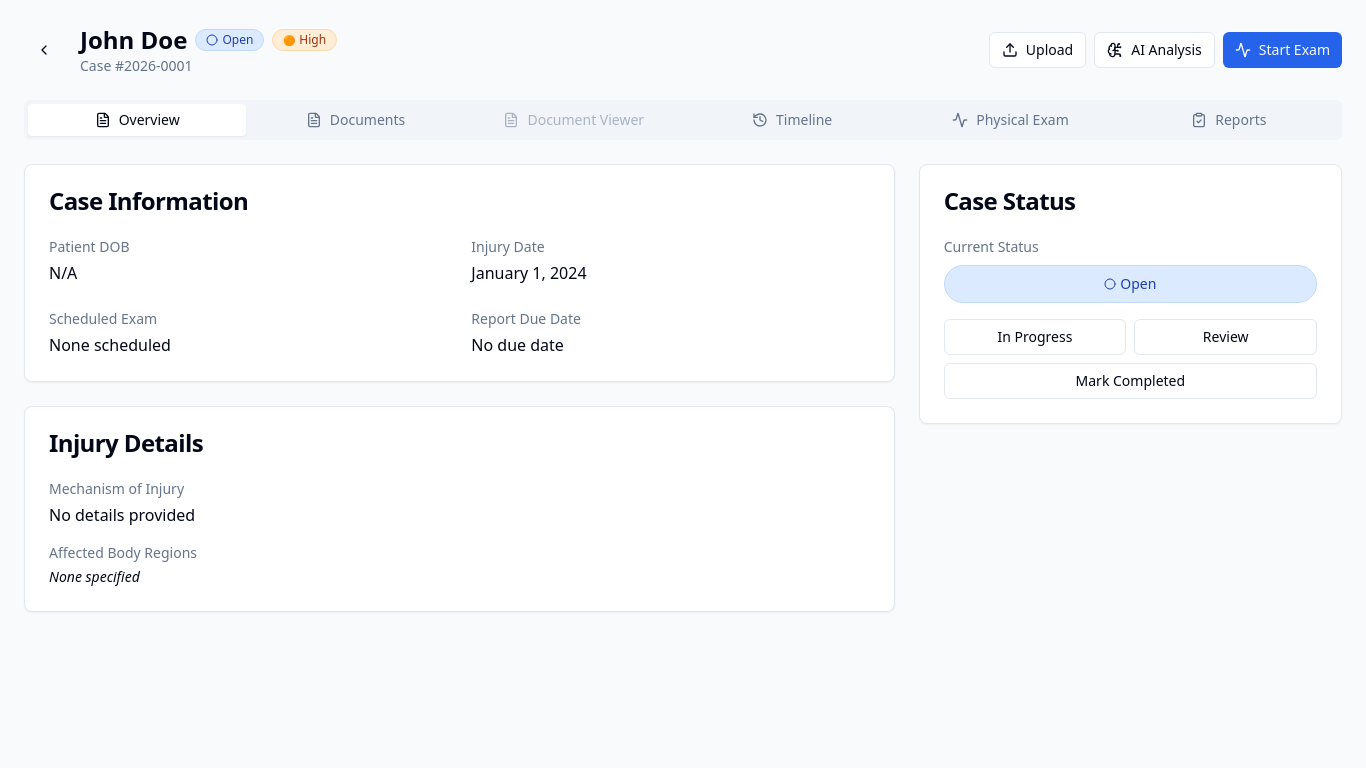
Test: MediCase Workflow Integration › navigates through case detail tabs
Expected: the heading "John Doe" is shown, [80,24,187,56]
Note: Tab Navigation: Physical Exam
Click the tab "Physical Exam". click: [1010, 120]
box: [901,104,1120,136]
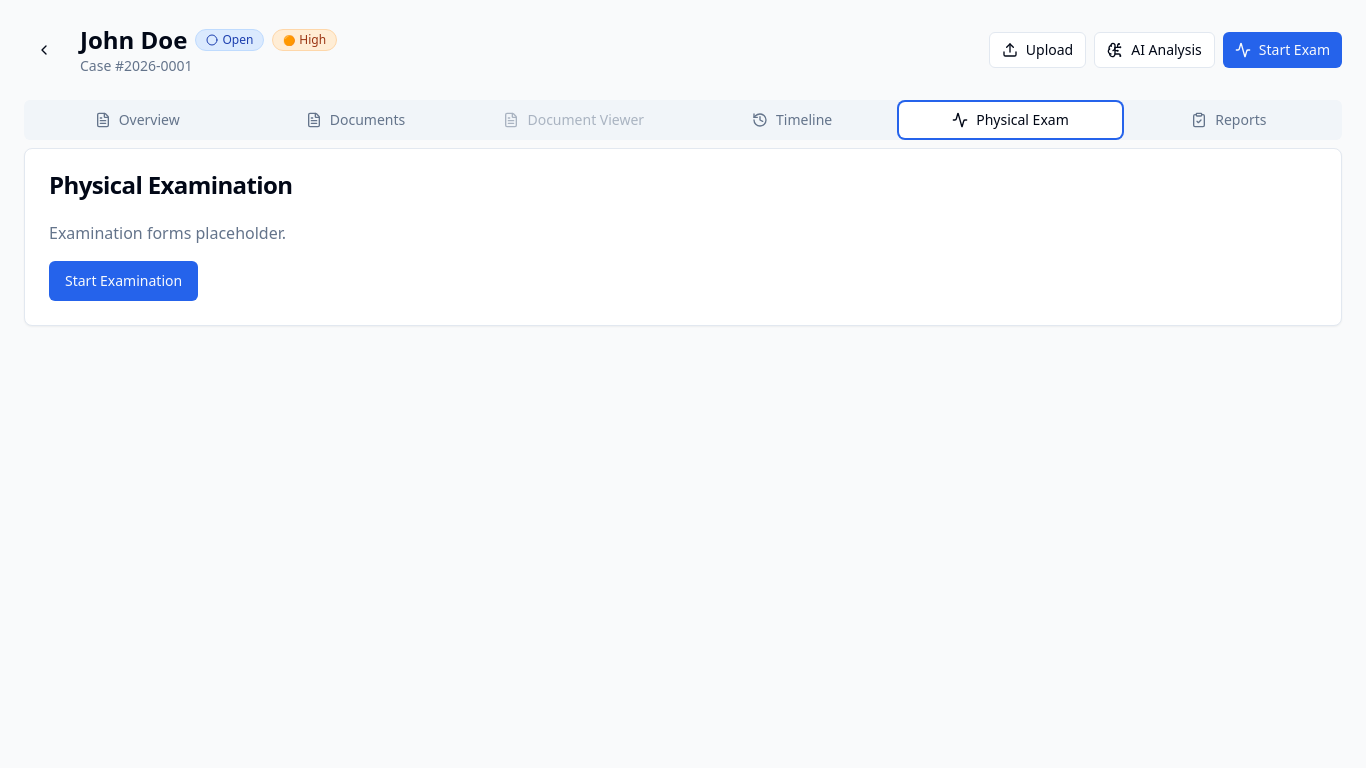
Expected: the heading "Physical Examination" is shown, [49,168,292,201]
Note: Tab Navigation: Timeline
Click the tab "Timeline". click: [792, 120]
box: [683,104,901,136]
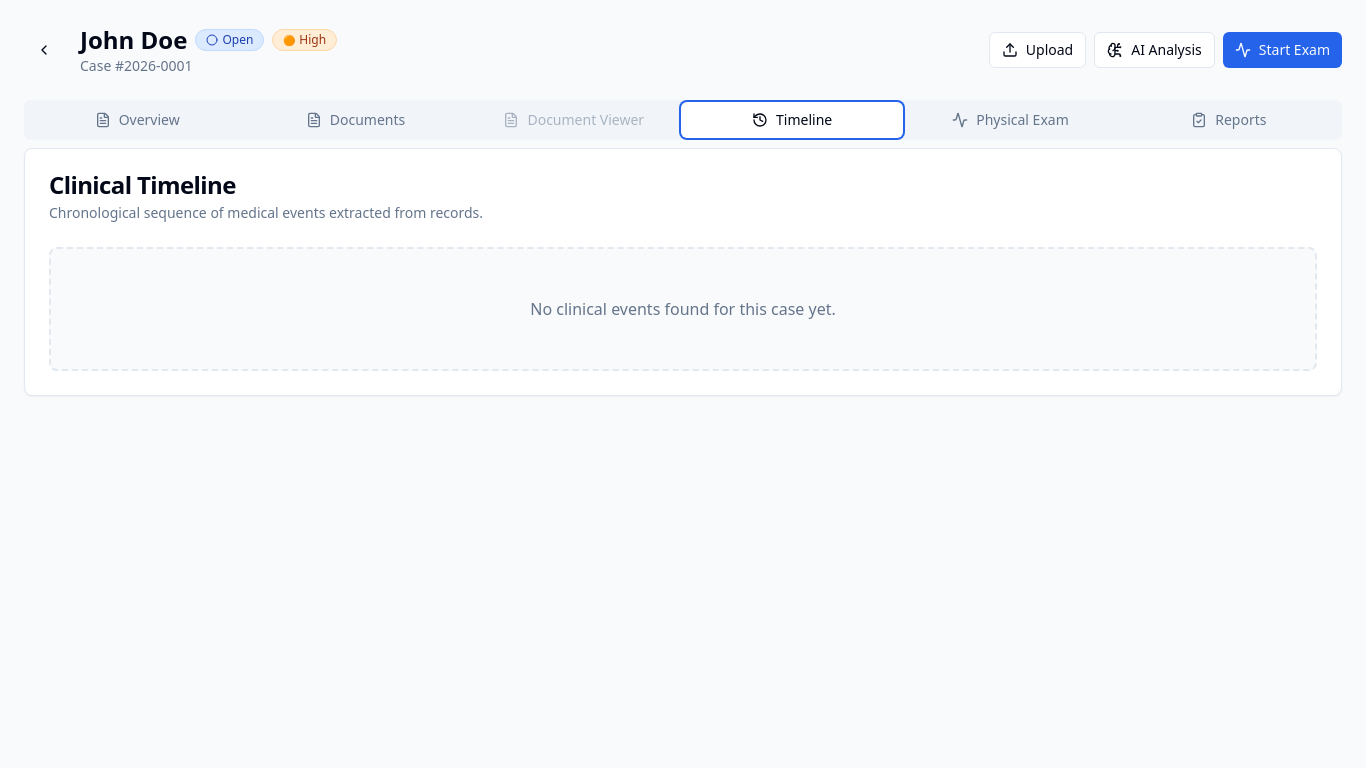
Expected: the heading "Clinical Timeline" is shown, [49,168,236,201]
Note: Tab Navigation: Reports
Click the tab "Reports". click: [1229, 120]
box: [1120,104,1338,136]
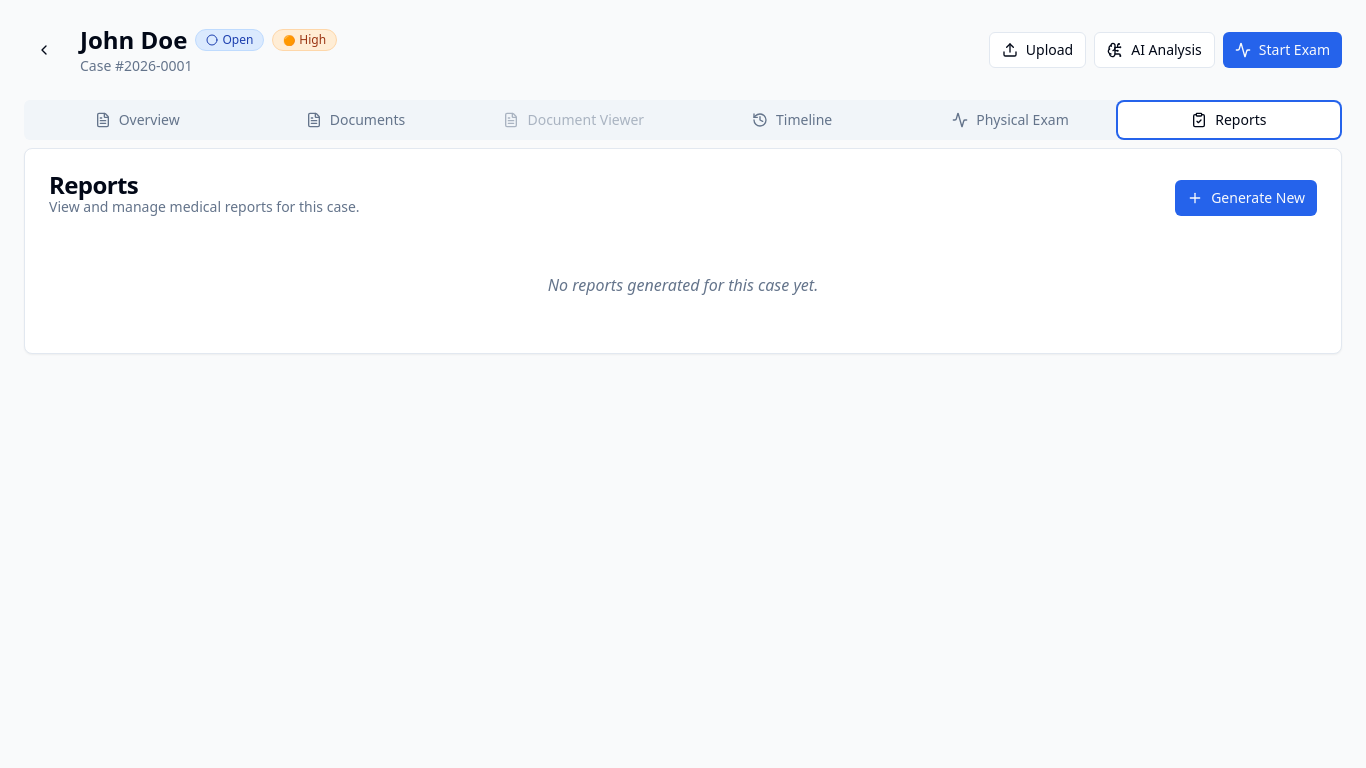
Expected: the text "No reports generated for this case yet." is shown, [548,274,818,296]
